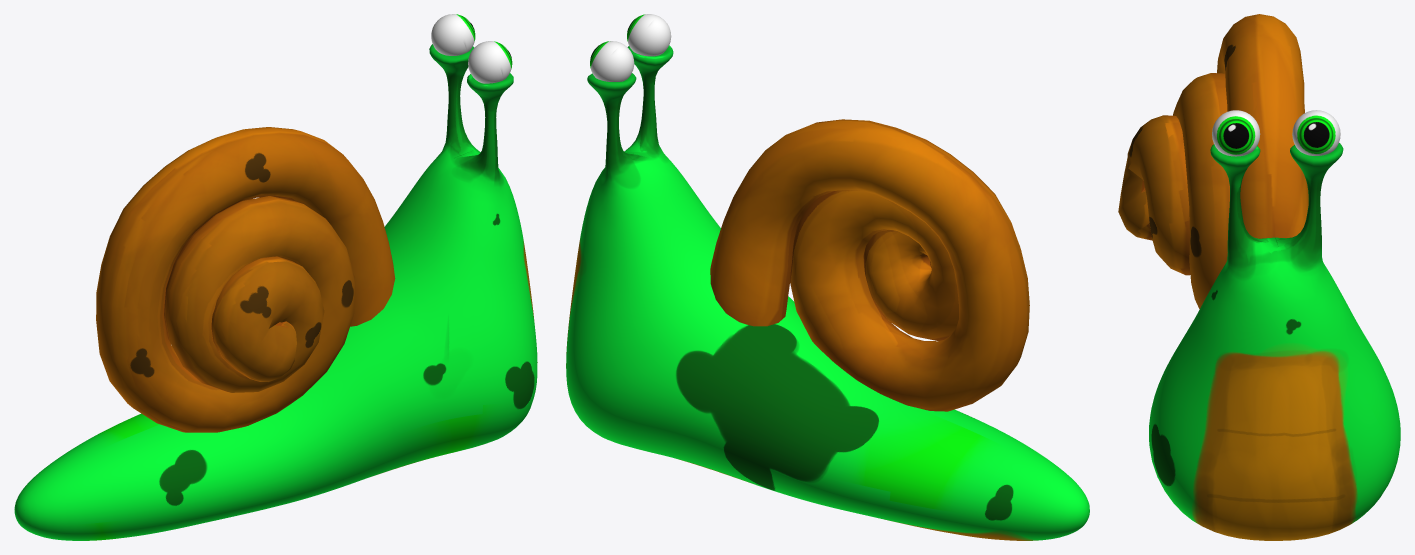
File: caracol.glb
3 views of the same model, side by side, from view 1: azimuth 30°, elevation 25°; view 2: azimuth 150°, elevation 25°; view 3: azimuth 270°, elevation 25° (orthographic). The views are drawn at different scales.
Parts seen in each view (by area): view 1: Cuerpo, Concha, Ojo01, Ojo02; view 2: Cuerpo, Concha, Ojo01, Ojo02; view 3: Cuerpo, Concha, Ojo01, Ojo02.
Part boxes in pixels (left/top/right/bottom): Cuerpo: left=14, top=44, right=537, bottom=540; Concha: left=96, top=127, right=395, bottom=432; Ojo01: left=468, top=41, right=512, bottom=83; Ojo02: left=431, top=14, right=475, bottom=55; Cuerpo: left=566, top=45, right=1089, bottom=540; Concha: left=710, top=119, right=1029, bottom=411; Ojo01: left=627, top=14, right=671, bottom=56; Ojo02: left=590, top=41, right=634, bottom=81; Cuerpo: left=1149, top=143, right=1400, bottom=540; Concha: left=1118, top=14, right=1308, bottom=309; Ojo01: left=1212, top=110, right=1260, bottom=156; Ojo02: left=1292, top=110, right=1340, bottom=155.
Size of the model in its own units: 2.17 by 1.72 by 0.9768.
3 materials, 3 textured.
